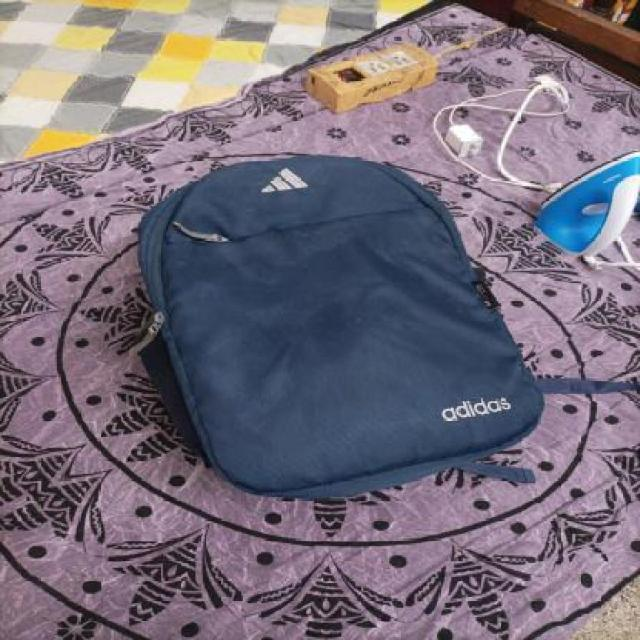backpack: (117, 149, 551, 505)
